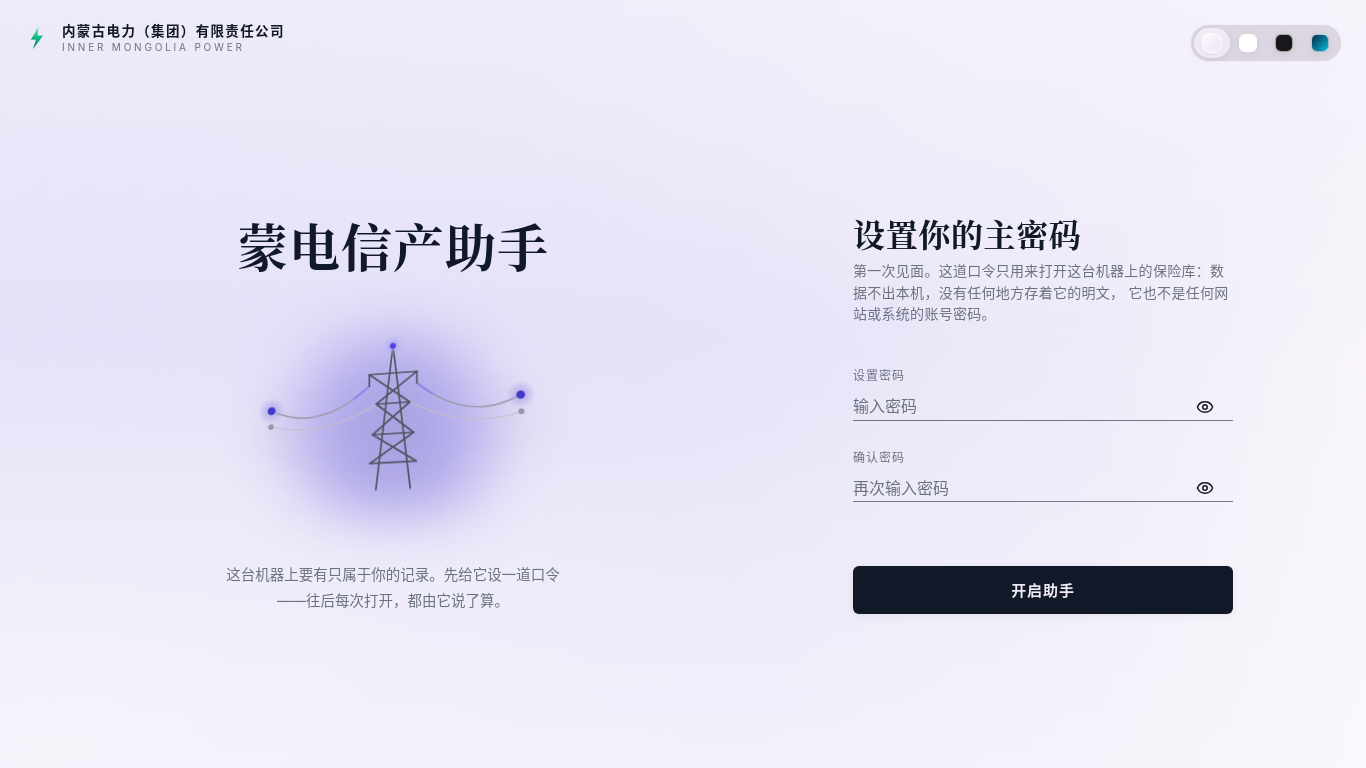
Scenario: InitScreen 首次初始化 › 错误走 role="alert"，可被读屏播报；空密码与两次不一致各给明确文案
The width and height of the screenshot is (1366, 768).
直接派发 submit：绕过浏览器原生 required 校验，测的是 JS 侧的守卫与播报
Submit the form named "设置主密码", box [853,367,1233,614]
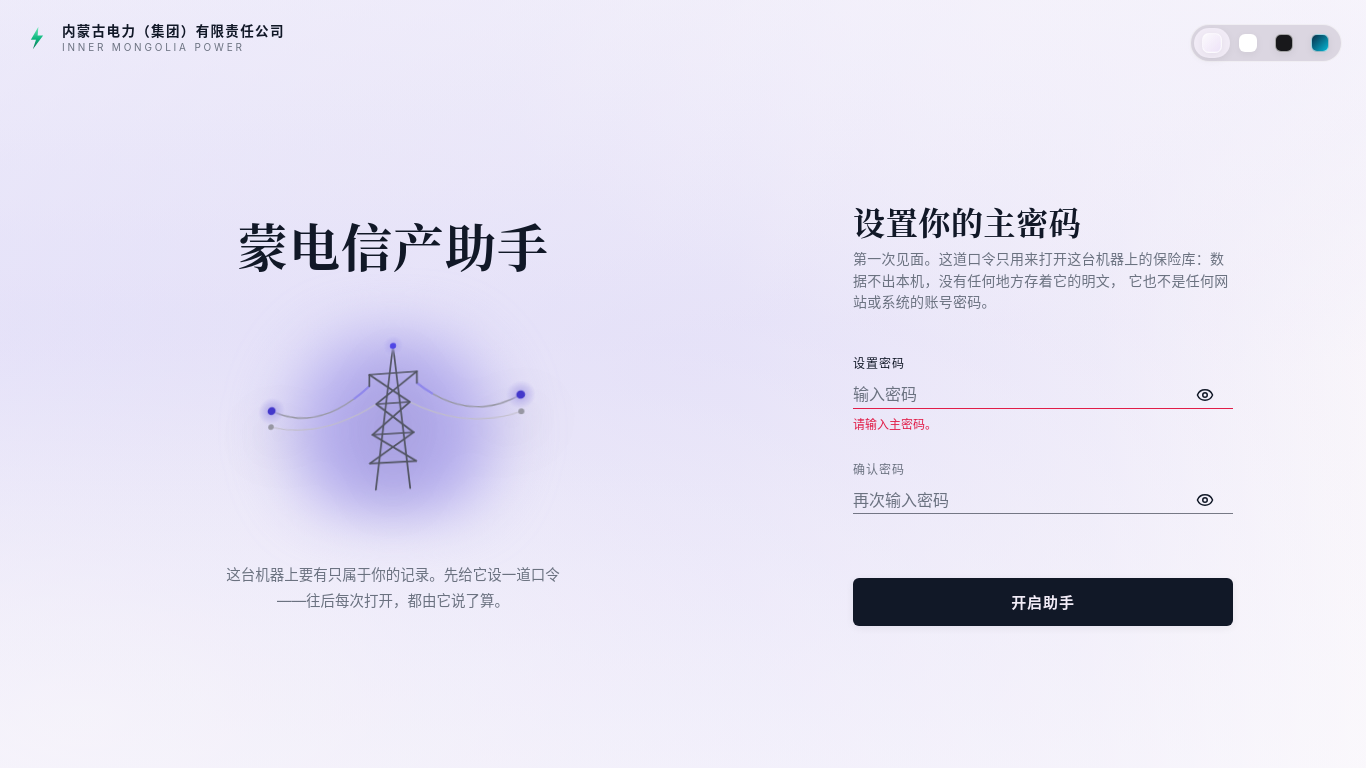
Check: the message shows "请输入主密码", box [853,417,937,432]
Type "Ab#1234567890" into the password field labelled "设置密码". click: (1043, 395)
box: [853,382,1233,408]
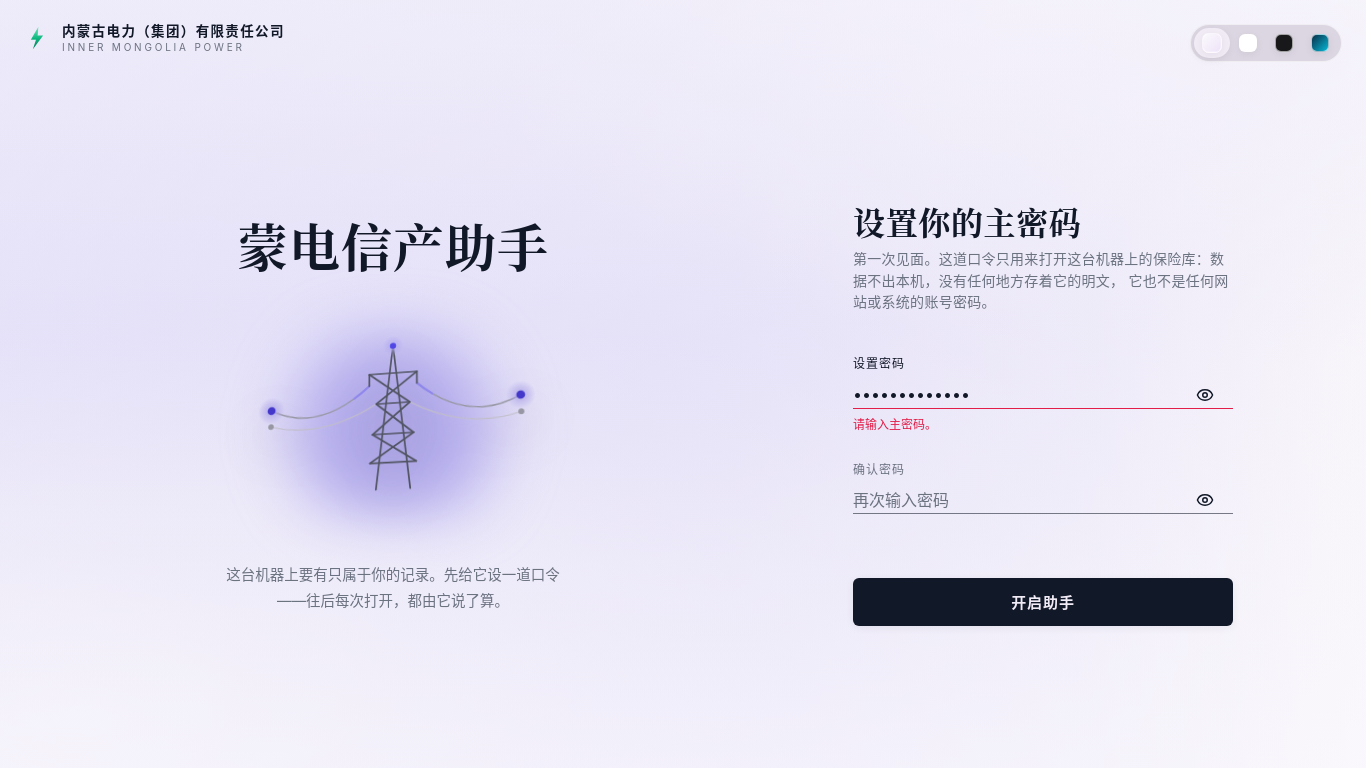
Type "Ab#1234567899" into the password field labelled "确认密码". click: (1043, 500)
box: [853,487,1233,513]
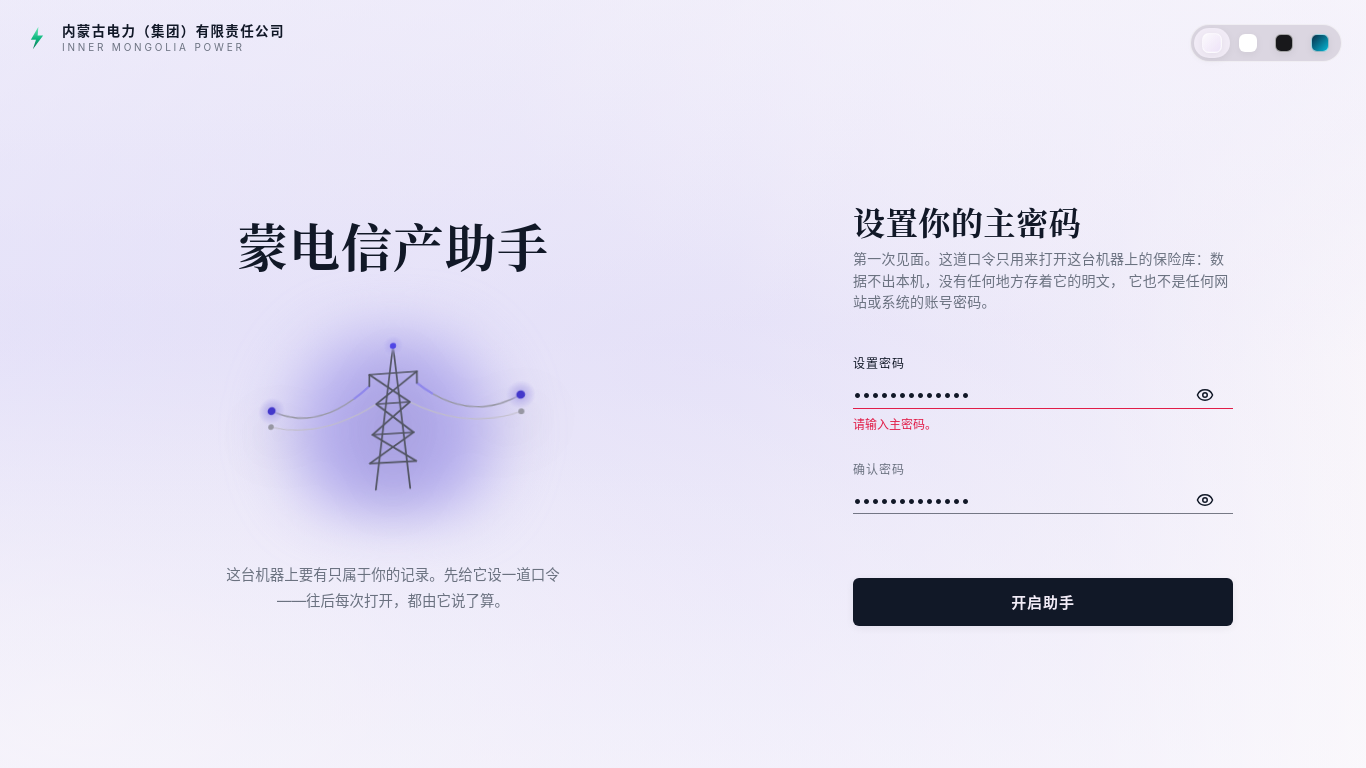
Submit the form named "设置主密码", box [853,355,1233,626]
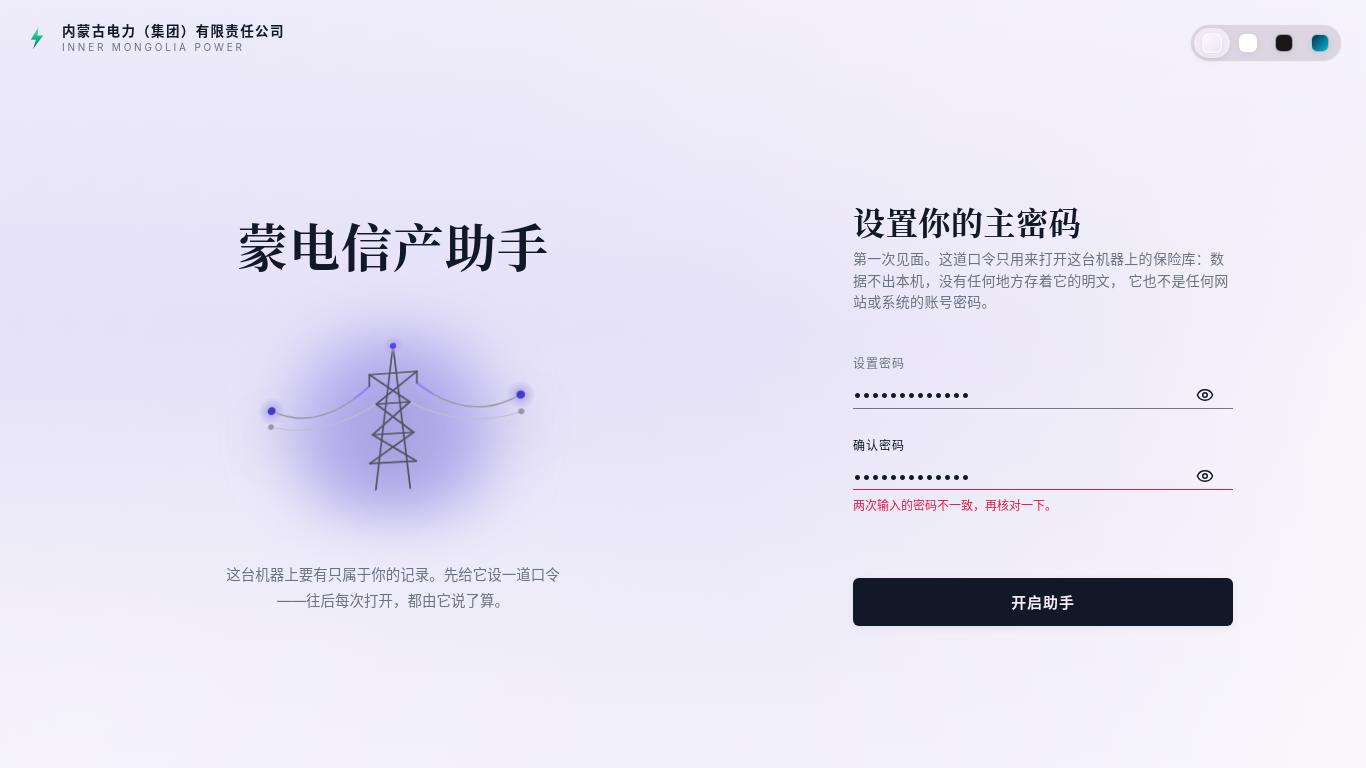
Check: the message shows "不一致", box [853,498,1057,513]
